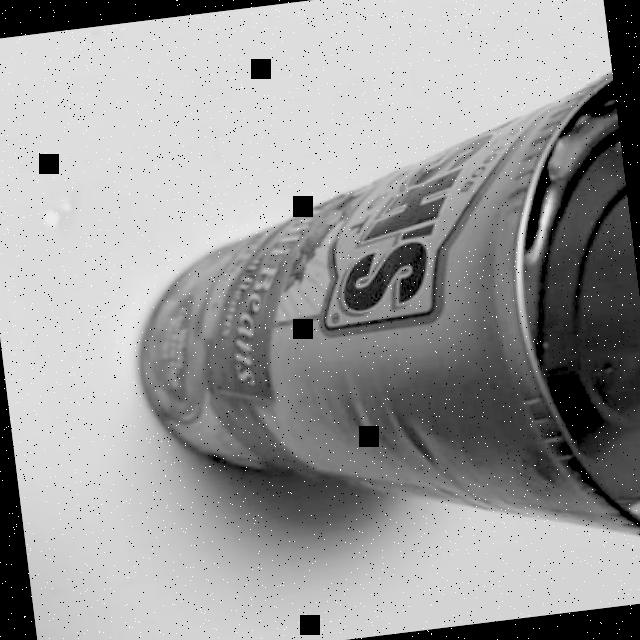can: (107, 64, 640, 605)
